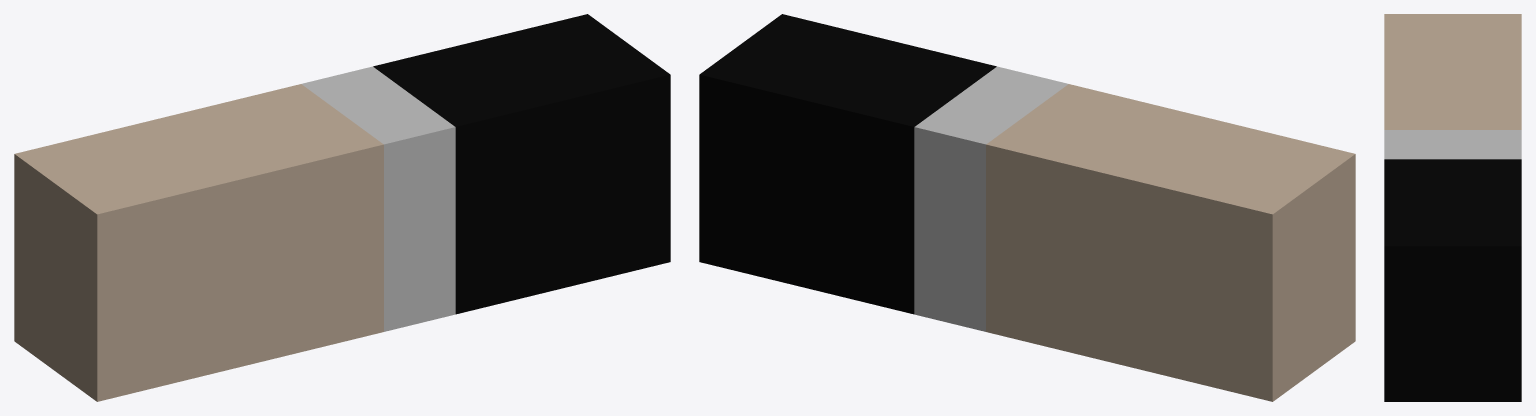
The model's file is brazo.obj.
3 renders of one model, left to right at view 1: azimuth 30°, elevation 25°; view 2: azimuth 150°, elevation 25°; view 3: azimuth 270°, elevation 25°, orthographic. The views are drawn at different scales.
Bounding box in the file's own units: 1.6 × 0.5 × 0.4.
Materials: 1 (1 with a texture image).
